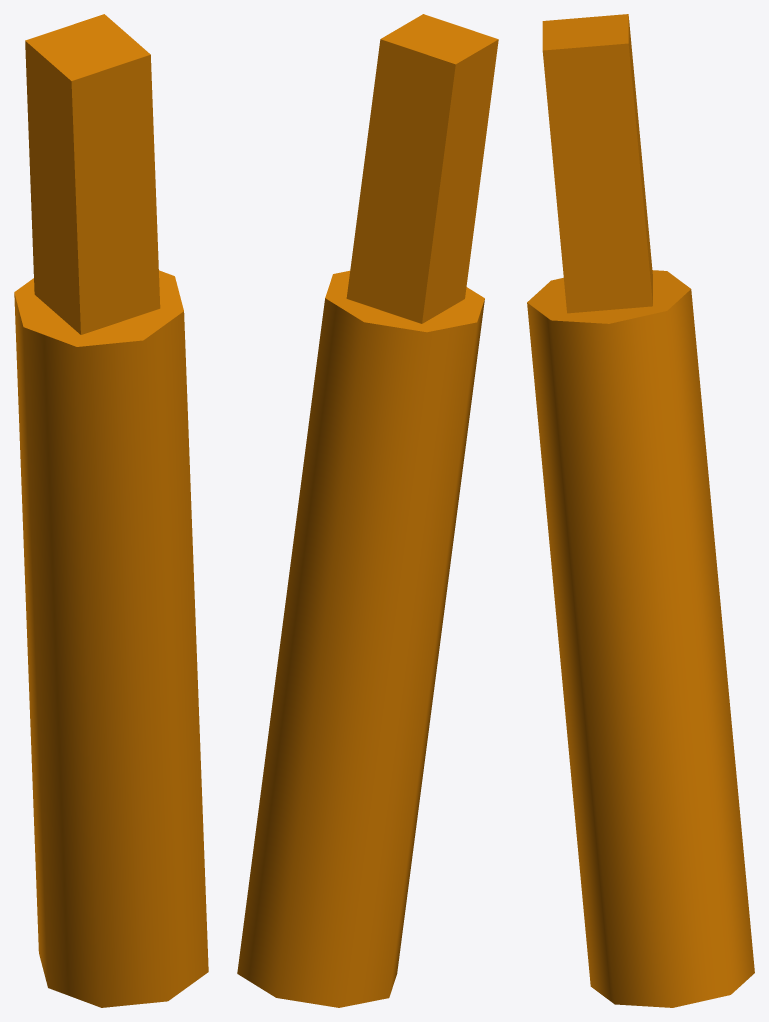
Rendered from Support_Beam.FBX.
The picture shows the model from 3 angles, left to right: view 1: azimuth 30°, elevation 25°; view 2: azimuth 150°, elevation 25°; view 3: azimuth 270°, elevation 25°; orthographic projection. The views are drawn at different scales.
Parts seen in each view (by area): view 1: Object032; view 2: Object032; view 3: Object032.
Part boxes in pixels (<box>): Object032: <box>14,14,208,1007</box>; Object032: <box>237,14,498,1007</box>; Object032: <box>527,14,754,1007</box>.
Size of the model in its own units: 1.84 by 8.27 by 1.85.
